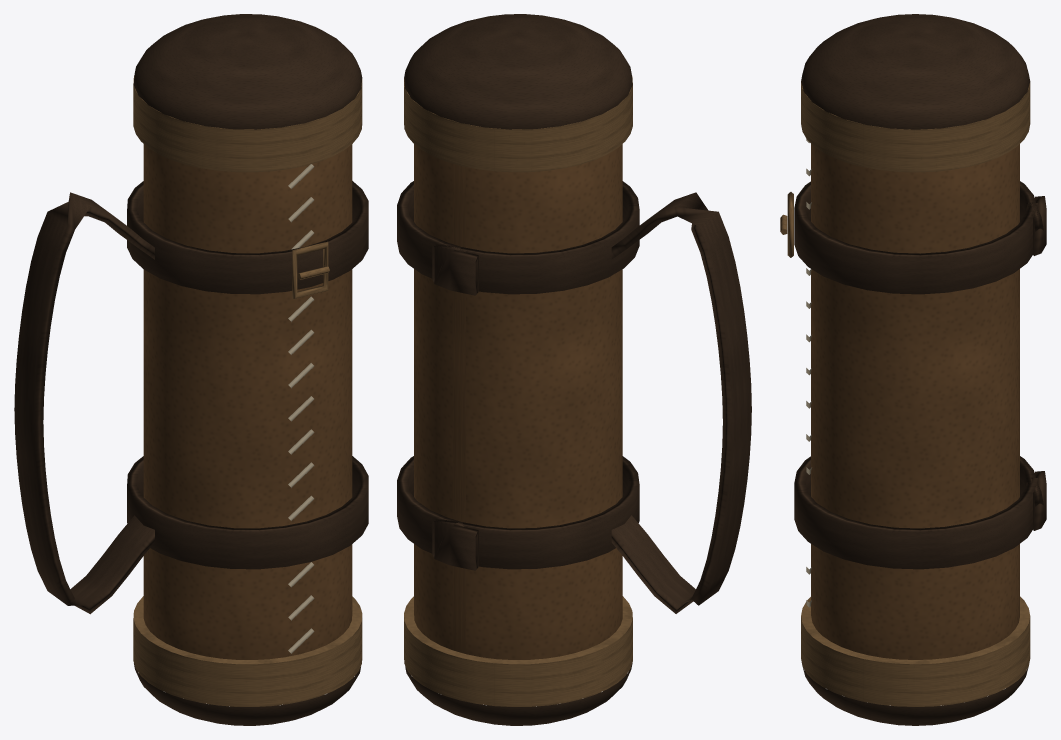
The picture shows the model from 3 angles, left to right: view 1: azimuth 30°, elevation 25°; view 2: azimuth 150°, elevation 25°; view 3: azimuth 270°, elevation 25°; orthographic projection.
Parts seen in each view (by area): view 1: tanned leather, oiled strap leather, aged alloy edge, waxed linen thread; view 2: tanned leather, oiled strap leather, aged alloy edge; view 3: tanned leather, oiled strap leather, aged alloy edge.
Part boxes in pixels (box(x1,y1,x2,y2)): tanned leather: box(143, 144, 352, 659); oiled strap leather: box(14, 14, 368, 725); aged alloy edge: box(133, 76, 362, 706); waxed linen thread: box(288, 164, 314, 653); tanned leather: box(414, 144, 622, 659); oiled strap leather: box(397, 14, 751, 725); aged alloy edge: box(404, 76, 632, 706); tanned leather: box(811, 144, 1019, 659); oiled strap leather: box(794, 14, 1046, 725); aged alloy edge: box(780, 82, 1030, 706).
Size of the model in its own units: 0.1125 by 0.2196 by 0.0789.
Materials: 4 (4 with a texture image).
